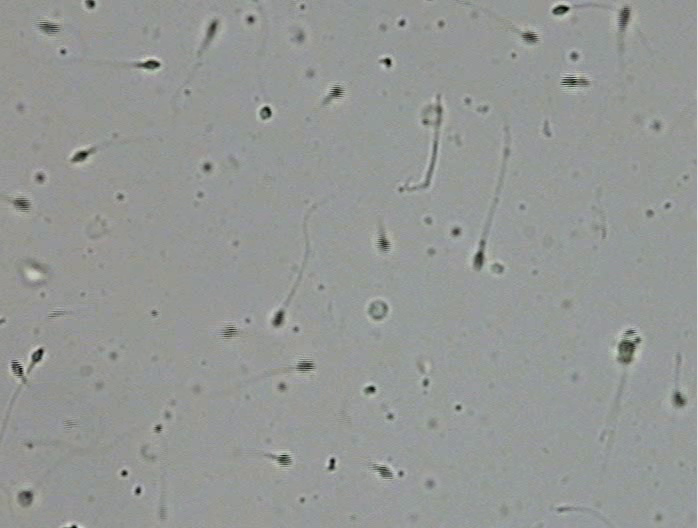Impurity: (367, 300, 389, 320)
S: (617, 339, 636, 364), (38, 20, 61, 36), (617, 5, 630, 29), (296, 358, 316, 373), (10, 359, 24, 379), (13, 197, 31, 212), (375, 464, 393, 479), (17, 491, 33, 507), (560, 75, 579, 88), (521, 31, 540, 44), (376, 236, 391, 252), (329, 84, 345, 99), (672, 391, 687, 407), (276, 453, 293, 467), (221, 325, 238, 338), (473, 251, 484, 271), (272, 309, 284, 327), (70, 151, 89, 162), (142, 59, 160, 70), (31, 348, 44, 363), (207, 20, 217, 38), (552, 5, 570, 15), (260, 106, 272, 120), (86, 1, 95, 9)
